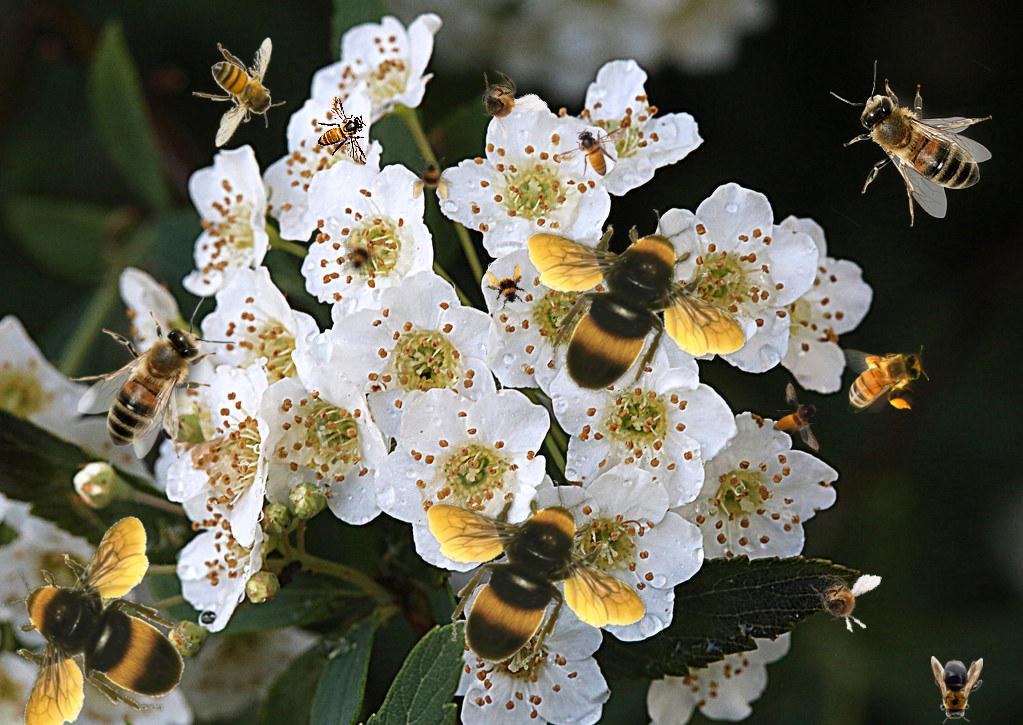Bee: (427, 480, 647, 671), (527, 209, 747, 400), (1, 515, 192, 725), (69, 297, 236, 459), (830, 60, 992, 227), (192, 37, 286, 148), (456, 57, 549, 151), (836, 345, 929, 413), (803, 565, 882, 637), (771, 381, 821, 452), (317, 95, 367, 166), (556, 127, 627, 177), (931, 656, 983, 724), (331, 225, 389, 283), (478, 259, 534, 315), (411, 157, 455, 201)
